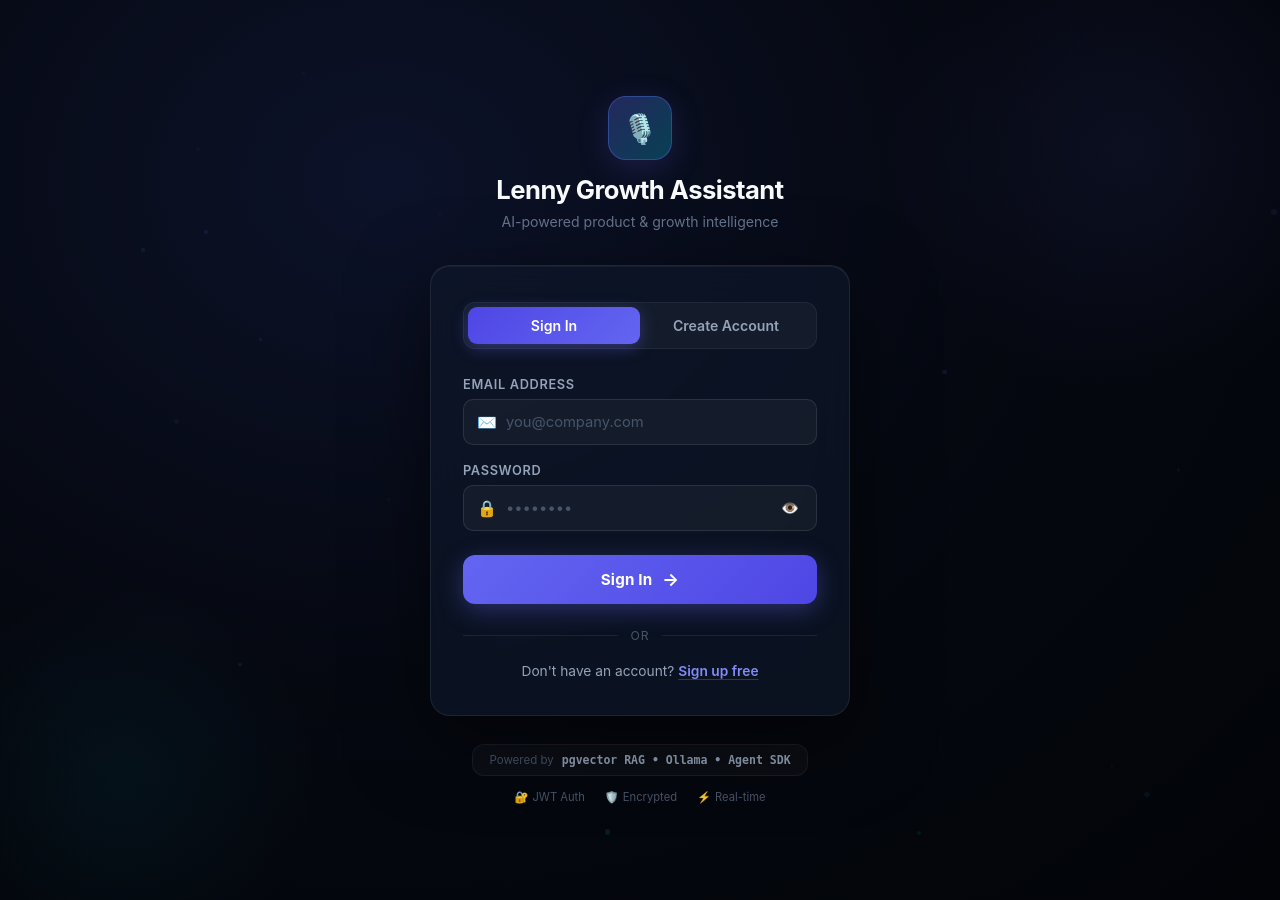
Test: AuthPage Component › validates short passwords or missing email
Step 1. Click the button "Sign In →" → (640, 579), box [463,554,817,604]
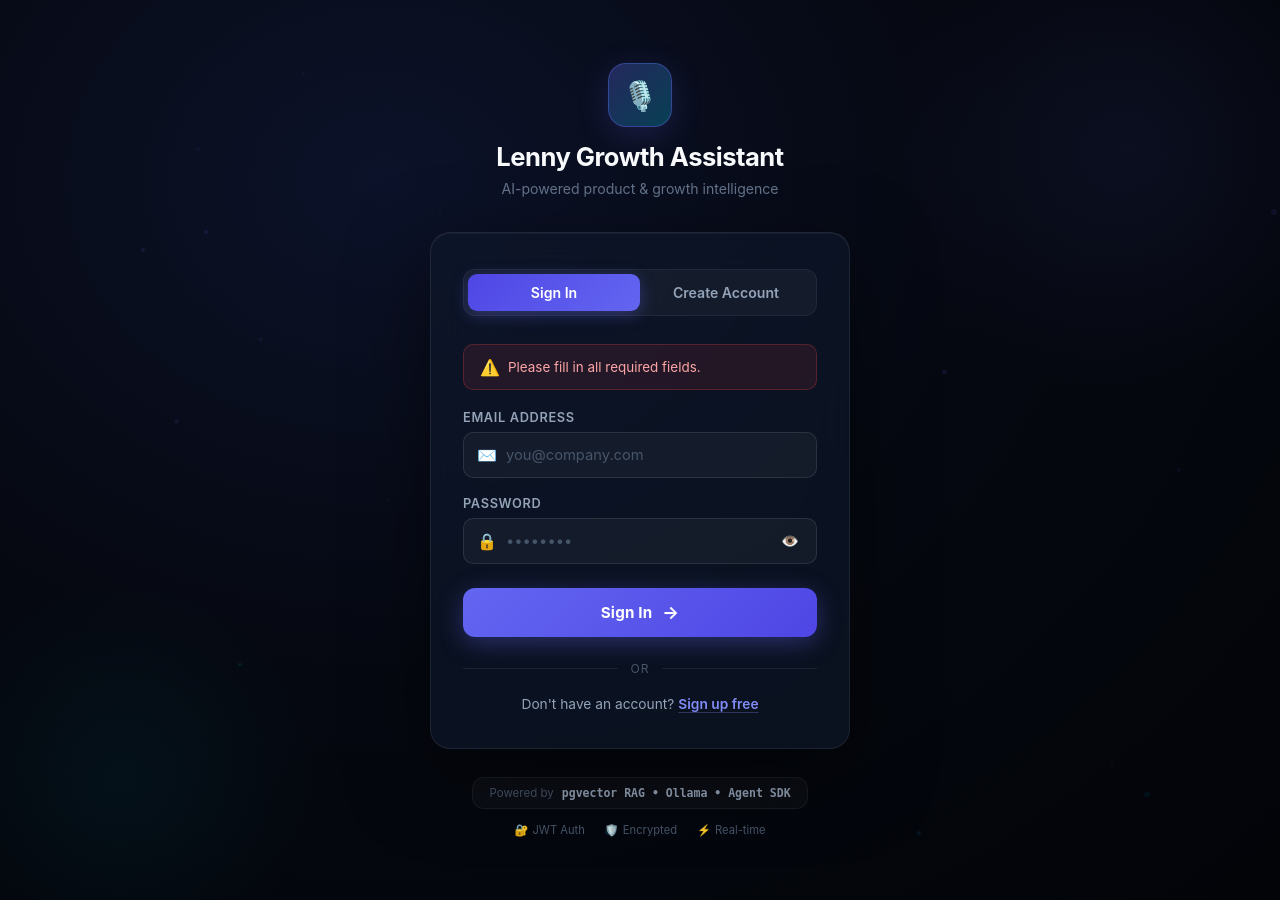
Now the text "Please fill in all required fields." is shown, box [508,358,701,374]
